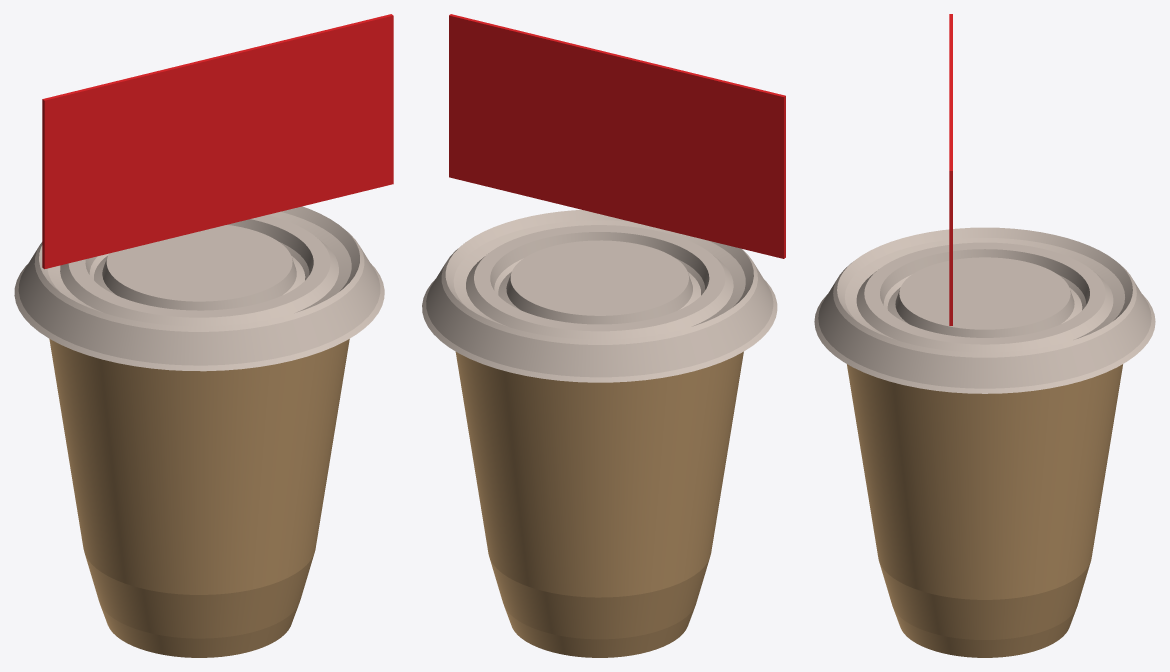
3 views of the same model, side by side, from view 1: azimuth 30°, elevation 25°; view 2: azimuth 150°, elevation 25°; view 3: azimuth 270°, elevation 25° (orthographic). The views are drawn at different scales.
Visible parts, largest first — view 1: cup; view 2: cup; view 3: cup.
Part boxes in pixels (left/top/right/bottom): cup: left=14, top=14, right=393, bottom=657; cup: left=422, top=14, right=785, bottom=657; cup: left=814, top=14, right=1155, bottom=657.
Size of the model in its own units: 0.0953 by 0.15 by 0.0876.
